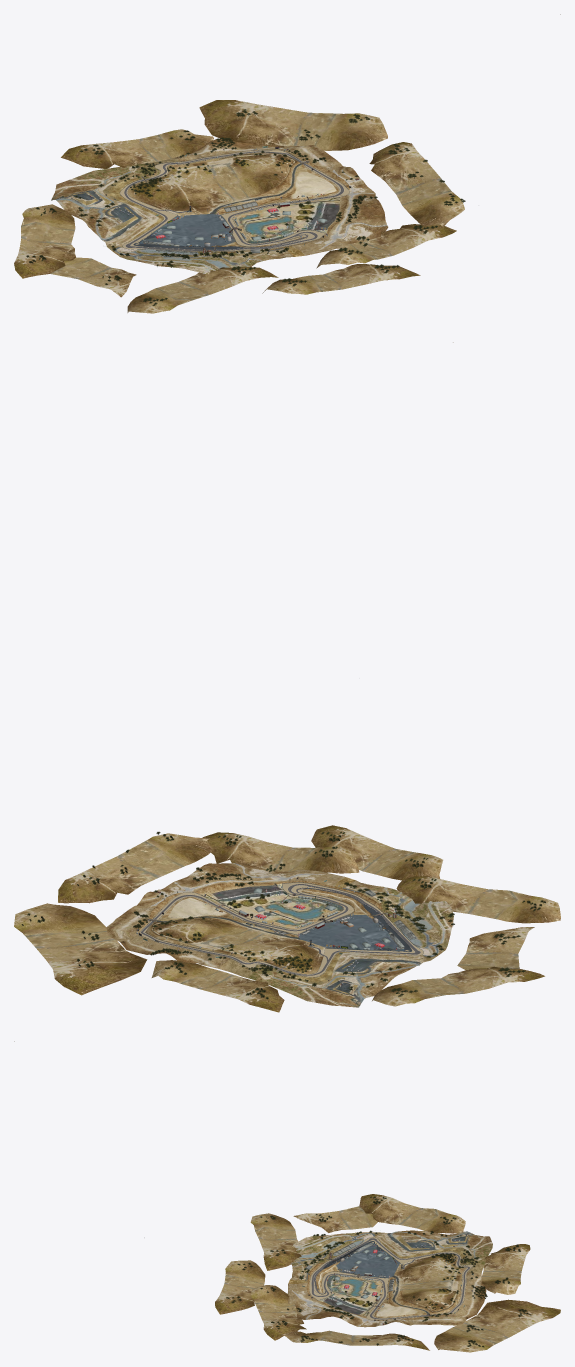
File: laguna_seca.glb
The picture shows the model from 3 angles, top to bottom: view 1: azimuth 30°, elevation 25°; view 2: azimuth 150°, elevation 25°; view 3: azimuth 270°, elevation 25°; orthographic projection. The views are drawn at different scales.
Visible parts, largest first — view 1: 0192_env, 0194_env, 0190_env, 0182_laguna_seca_road, 0197_laguna_seca_road, 0119_Object933, 0198_laguna_seca_road; view 2: 0192_env, 0194_env, 0190_env, 0182_laguna_seca_road, 0197_laguna_seca_road, 0119_Object933, 0198_laguna_seca_road; view 3: 0192_env, 0194_env, 0190_env, 0182_laguna_seca_road, 0197_laguna_seca_road, 0119_Object933, 0198_laguna_seca_road.
Part boxes in pixels (left/top/right/bottom): 0192_env: left=14, top=100, right=464, bottom=313; 0194_env: left=51, top=157, right=305, bottom=274; 0190_env: left=175, top=139, right=388, bottom=255; 0182_laguna_seca_road: left=120, top=150, right=349, bottom=251; 0197_laguna_seca_road: left=124, top=151, right=344, bottom=251; 0119_Object933: left=26, top=109, right=465, bottom=305; 0198_laguna_seca_road: left=120, top=150, right=349, bottom=251; 0192_env: left=14, top=825, right=560, bottom=1012; 0194_env: left=217, top=877, right=453, bottom=1007; 0190_env: left=106, top=862, right=345, bottom=968; 0182_laguna_seca_road: left=139, top=882, right=423, bottom=977; 0197_laguna_seca_road: left=140, top=883, right=420, bottom=975; 0119_Object933: left=21, top=831, right=545, bottom=999; 0198_laguna_seca_road: left=139, top=882, right=423, bottom=977; 0192_env: left=215, top=1194, right=560, bottom=1352; 0194_env: left=288, top=1230, right=492, bottom=1283; 0190_env: left=287, top=1272, right=486, bottom=1327; 0182_laguna_seca_road: left=309, top=1237, right=472, bottom=1320; 0197_laguna_seca_road: left=311, top=1238, right=470, bottom=1319; 0119_Object933: left=226, top=1196, right=531, bottom=1347; 0198_laguna_seca_road: left=309, top=1237, right=472, bottom=1320.
Size of the model in its own units: 23.47 by 18.89 by 33.79.
Materials: 26 (24 with a texture image).
